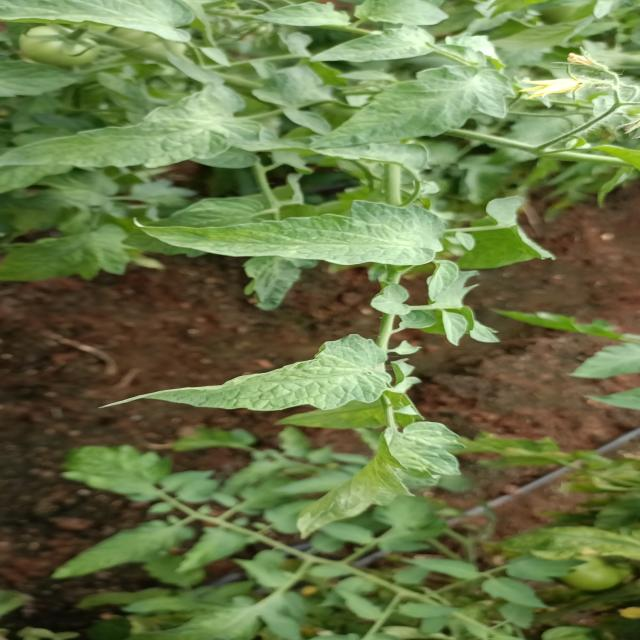Healthy Leaf: (94, 322, 400, 423), (76, 193, 461, 269), (1, 87, 238, 179), (325, 60, 518, 172)
